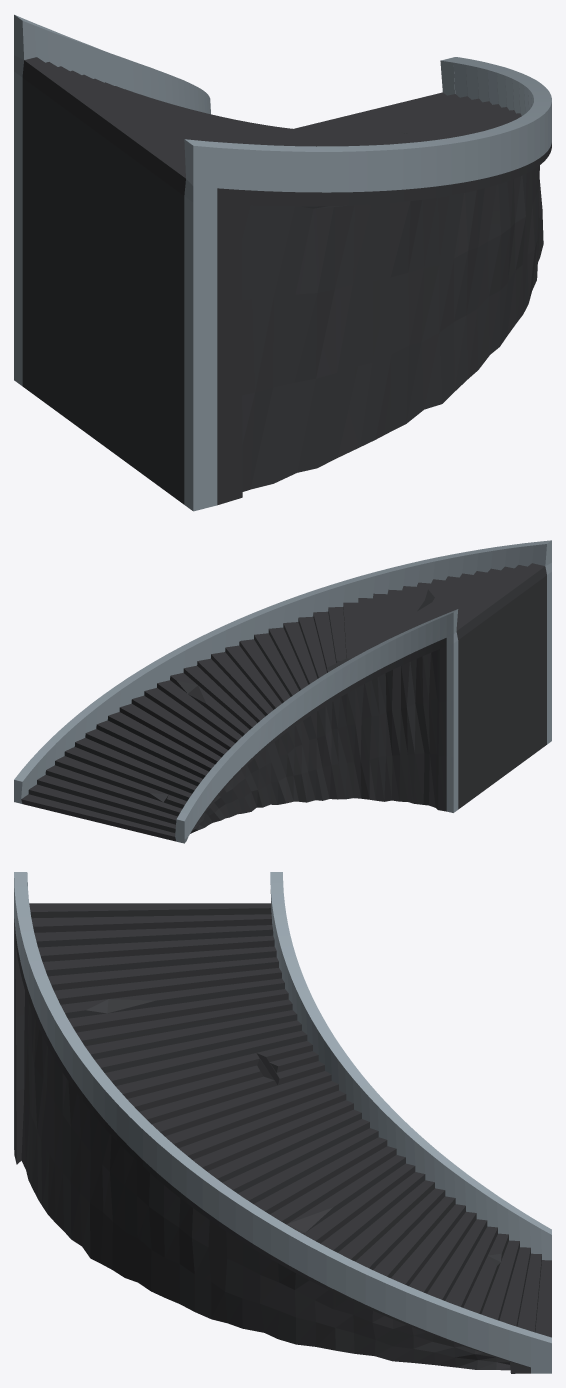
Rendered from Ramp_Medium_Curved_90.fbx.
3 views of the same model, one above another, from view 1: azimuth 30°, elevation 25°; view 2: azimuth 150°, elevation 25°; view 3: azimuth 270°, elevation 25° (orthographic). The views are drawn at different scales.
Visible parts, largest first — view 1: Ramp_Medium_90_Left; view 2: Ramp_Medium_90_Left; view 3: Ramp_Medium_90_Left.
Boxes of the visible parts, x1,y1,x2,y2 form: Ramp_Medium_90_Left: (14, 14, 551, 511); Ramp_Medium_90_Left: (14, 540, 551, 843); Ramp_Medium_90_Left: (14, 872, 551, 1373).
Bounding box in the file's own units: 16.01 × 9.08 × 16.
